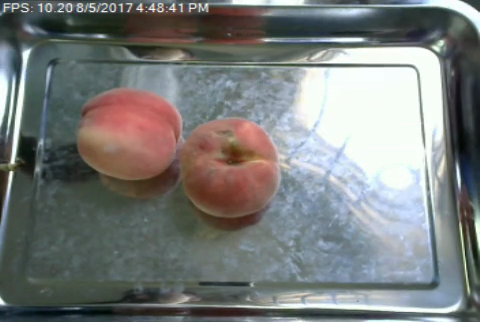Peach: (179, 114, 280, 218), (76, 87, 180, 180)
